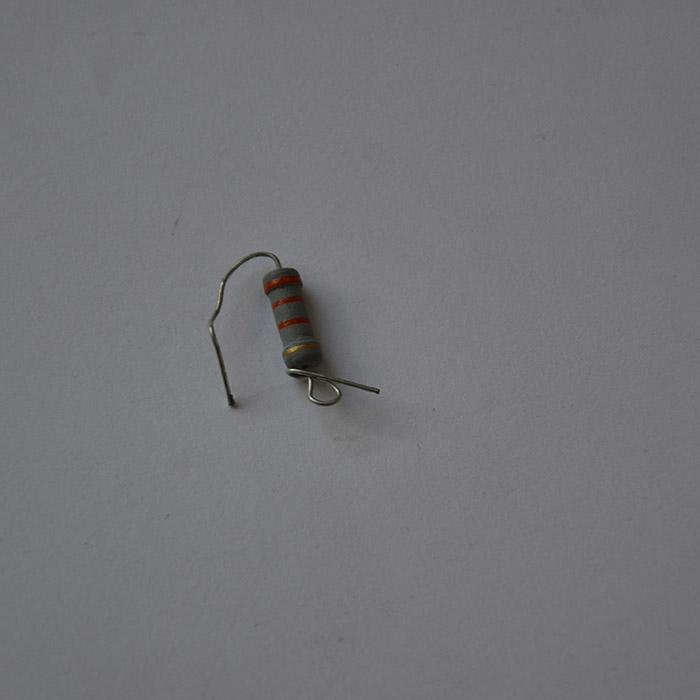resistor: (261, 267, 324, 371)
